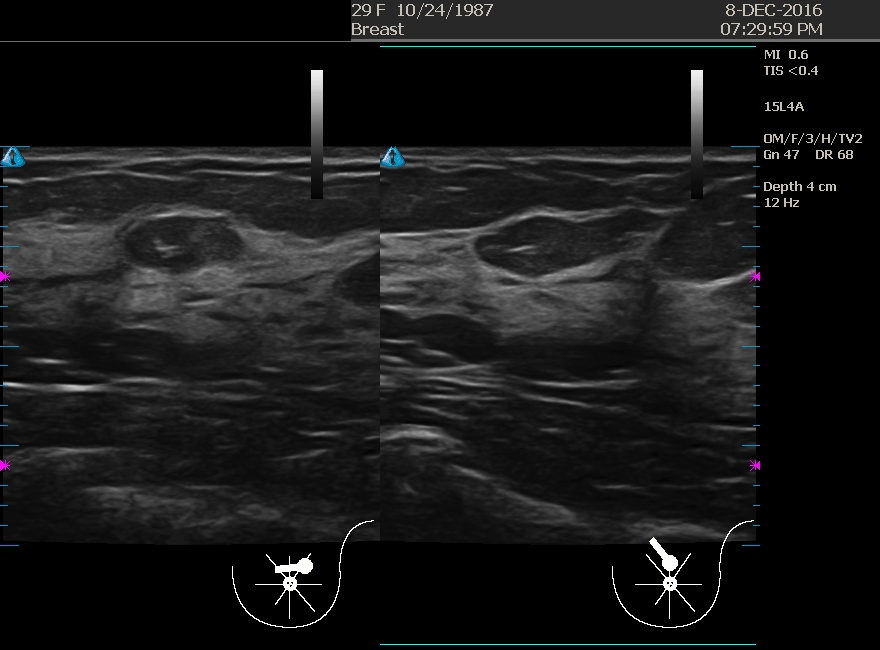BIRADS_3: (58, 151, 258, 351), (455, 173, 655, 373)
